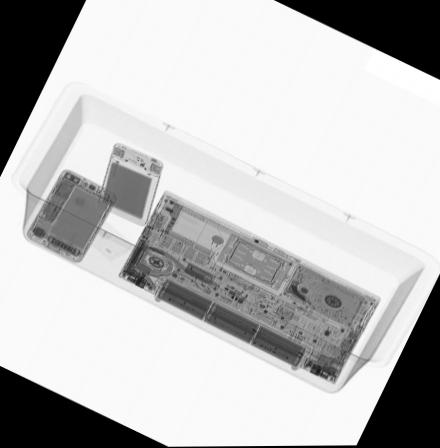Powerbank: (96, 138, 162, 228)
